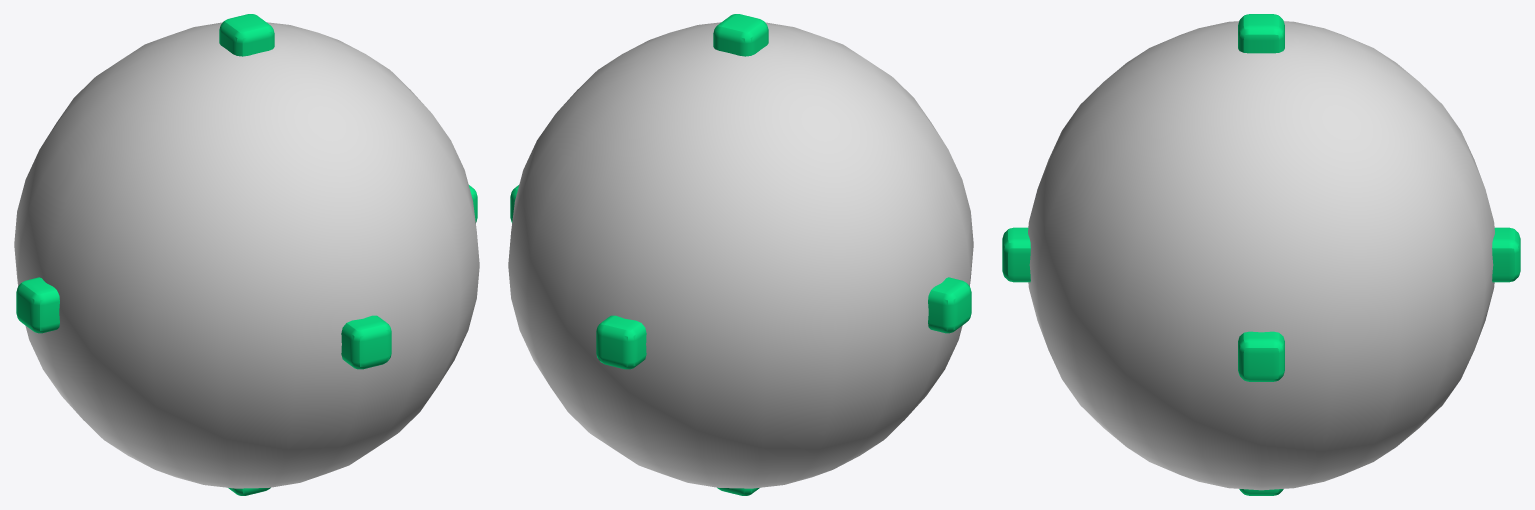
File: Ultraleap_Sphere_Interactable.fbx
3 renders of one model, left to right at view 1: azimuth 30°, elevation 25°; view 2: azimuth 150°, elevation 25°; view 3: azimuth 270°, elevation 25°, orthographic.
Visible parts, largest first — view 1: UHI_Sphere_Interactable, UHI_Sphere_Interactable_Parts; view 2: UHI_Sphere_Interactable, UHI_Sphere_Interactable_Parts; view 3: UHI_Sphere_Interactable, UHI_Sphere_Interactable_Parts.
Part boxes in pixels (bbox=[...]): UHI_Sphere_Interactable: bbox=[14, 22, 479, 488]; UHI_Sphere_Interactable_Parts: bbox=[16, 14, 477, 495]; UHI_Sphere_Interactable: bbox=[508, 22, 973, 488]; UHI_Sphere_Interactable_Parts: bbox=[510, 14, 971, 495]; UHI_Sphere_Interactable: bbox=[1028, 21, 1494, 490]; UHI_Sphere_Interactable_Parts: bbox=[1002, 14, 1520, 495].
Size of the model in its own units: 1.1 by 1.1 by 1.1.
